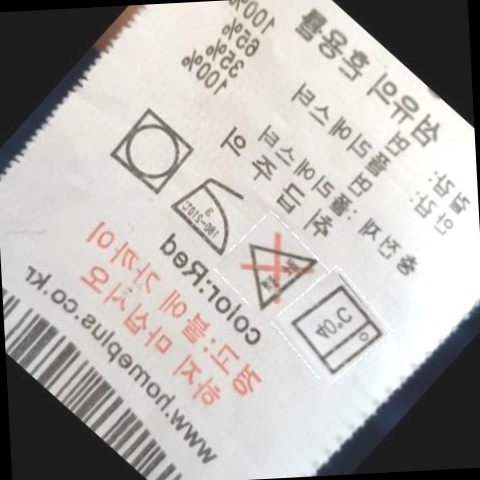40C: (288, 287, 377, 372)
iron_high: (169, 171, 239, 253)
non_chlorine_bleach: (235, 229, 312, 307)
tumble_dry_normal: (104, 103, 194, 200)
